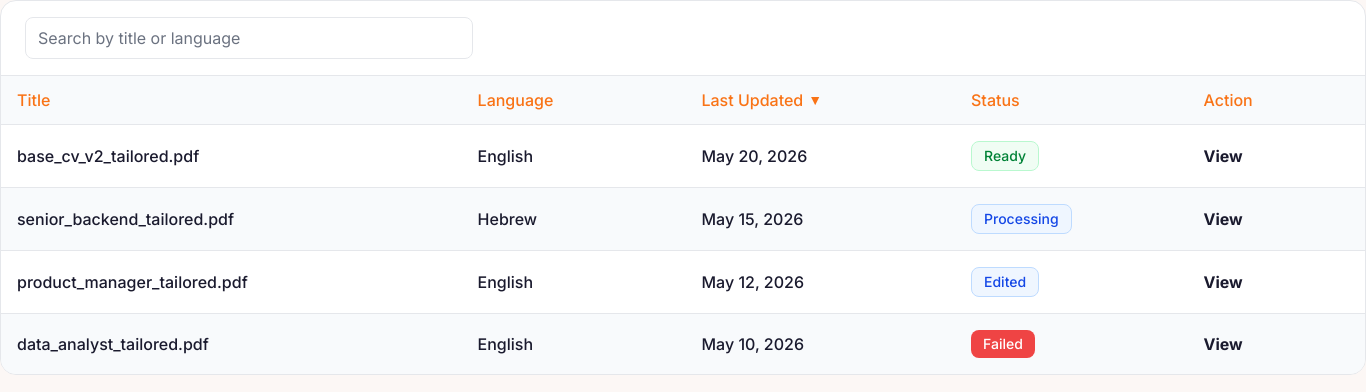
TailoredCVsListTable › filters rows by search across title and language and shows empty-search state
Type "hebrew" into the search field with test id "tailored-cvs-list-table-search".
click(249, 38); type("hebrew")  # box [25,17,473,59]
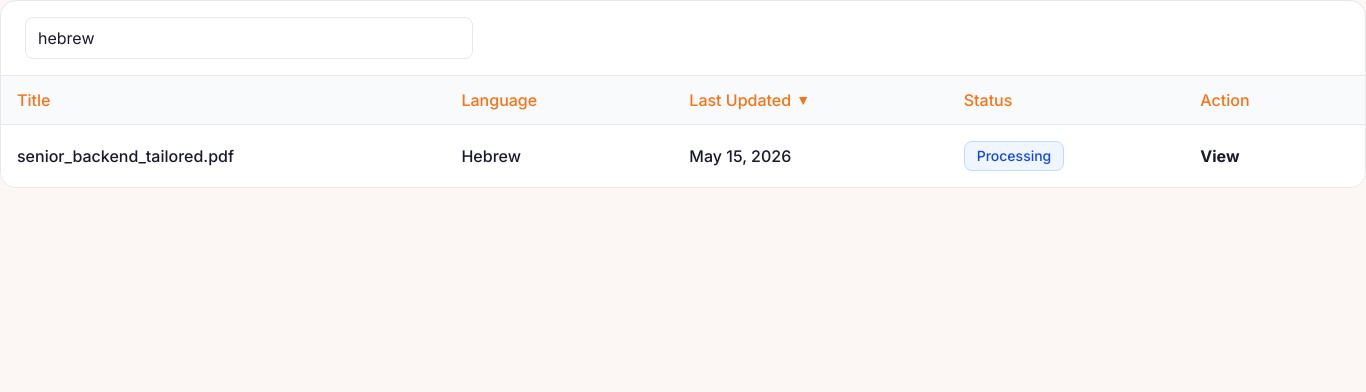
Expected: the row with test id "tailored-cv-row-tc-2" is shown, [1,124,1365,187]
Expected: the row with test id "tailored-cv-row-tc-1" is gone
Replace the text in the search field with test id "tailored-cvs-list-table-search" with "zzznomatch" at (249, 38), box [25,17,473,59]
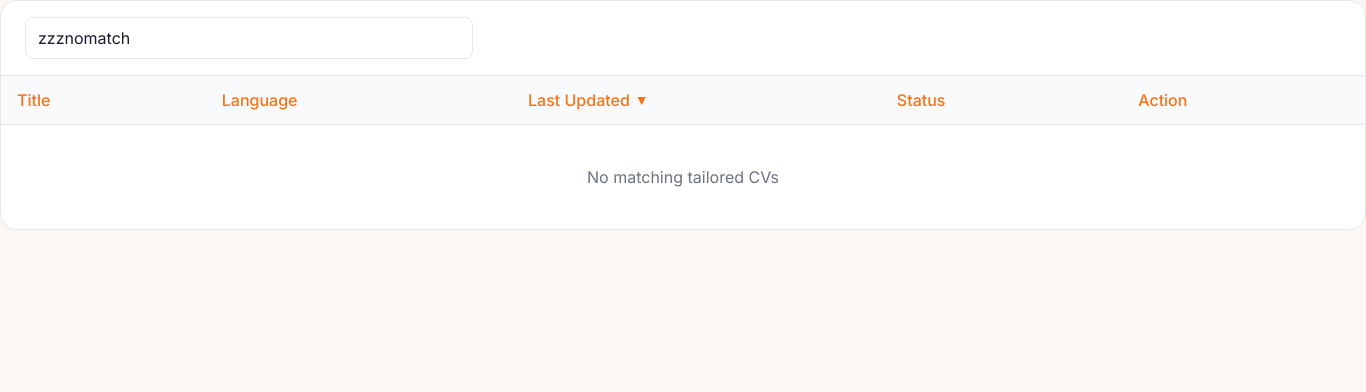
Expected: the text "No matching tailored CVs" is shown, [1,124,1365,229]
